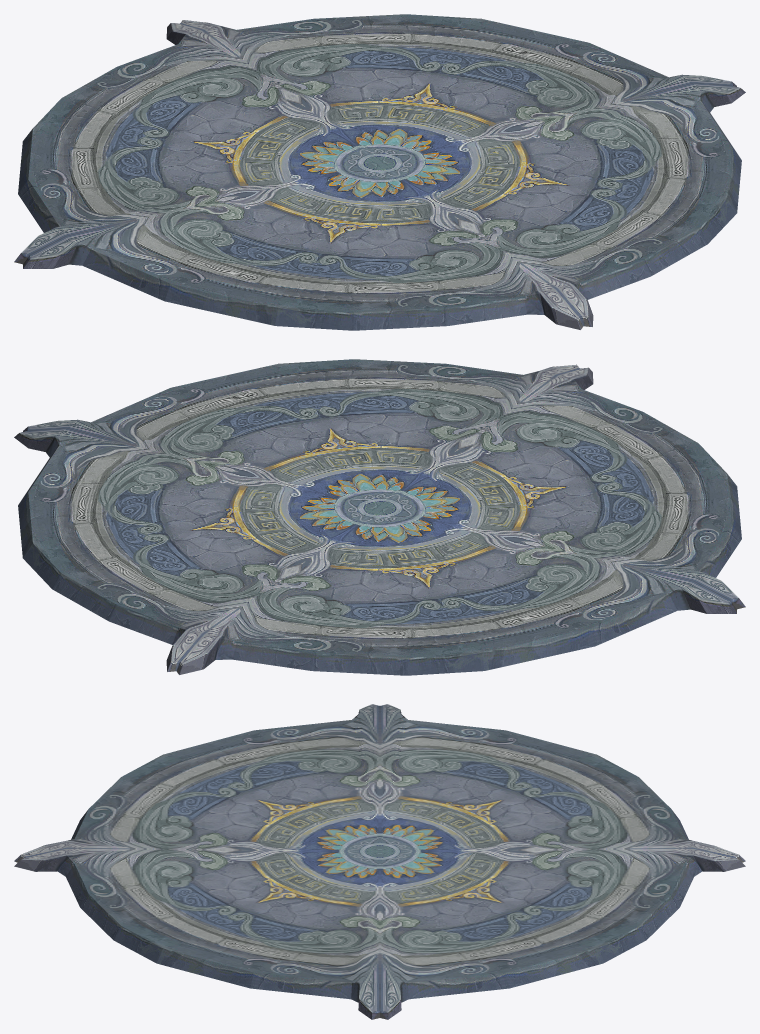
The model's file is fb_yuqinggong_zhongxinyuantai.FBX.
The picture shows the model from 3 angles, top to bottom: view 1: azimuth 30°, elevation 25°; view 2: azimuth 150°, elevation 25°; view 3: azimuth 270°, elevation 25°; orthographic projection. The views are drawn at different scales.
Visible parts, largest first — view 1: fb_yuqinggong_zhongxinyuantai; view 2: fb_yuqinggong_zhongxinyuantai; view 3: fb_yuqinggong_zhongxinyuantai.
Boxes of the visible parts, x1=… form: fb_yuqinggong_zhongxinyuantai: x1=14, y1=14, x2=745, y2=330; fb_yuqinggong_zhongxinyuantai: x1=14, y1=359, x2=745, y2=675; fb_yuqinggong_zhongxinyuantai: x1=14, y1=704, x2=745, y2=1019.
Size of the model in its own units: 1283 by 30.07 by 1272.
